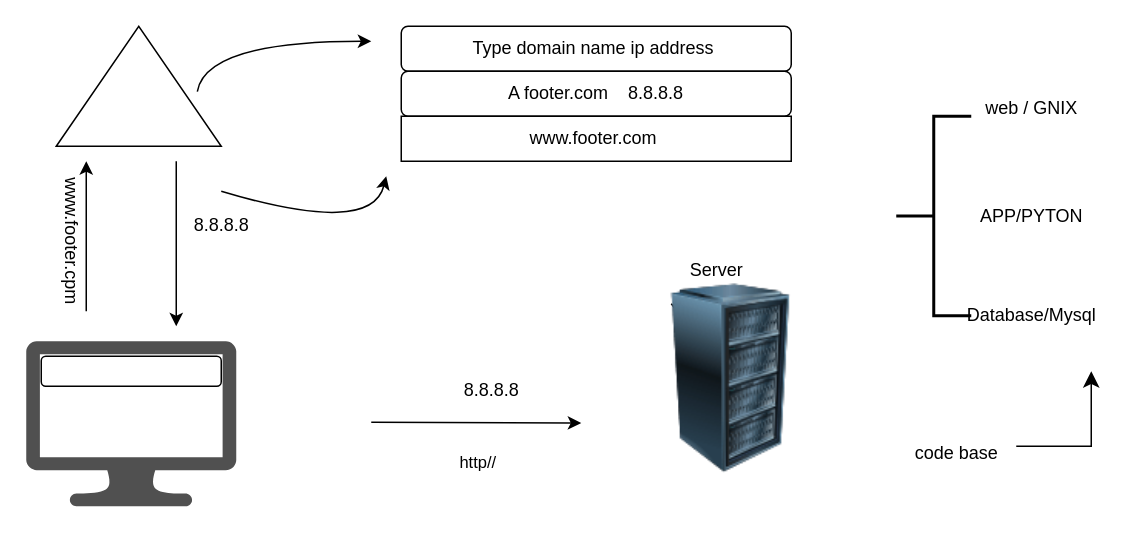
Image size: 1139x533. Some labels were removed from this diagram. The box of each missing label's shape, as (x1, y1, x2, y2) in pixels:
DNS: (55, 25, 221, 146)
www.foober.com: (40, 355, 221, 386)
